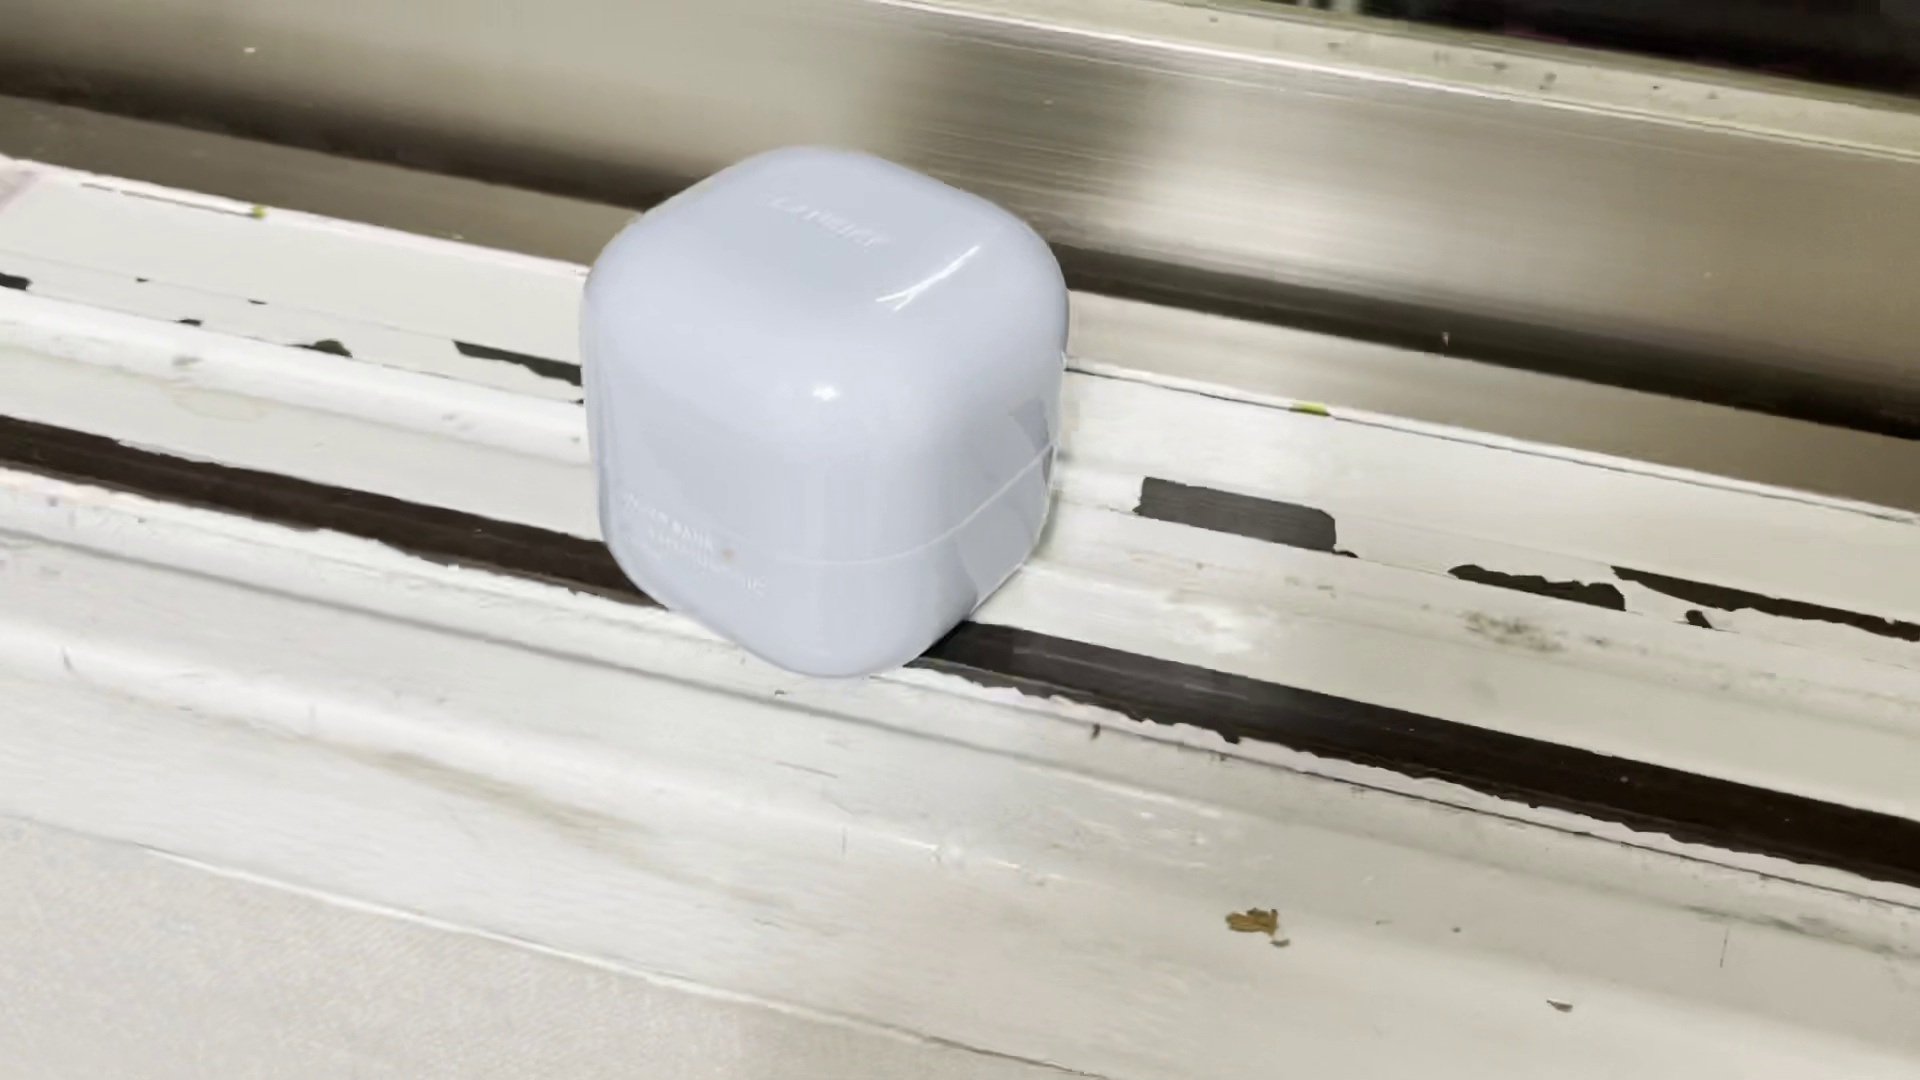cream: (582, 141, 1071, 678)
